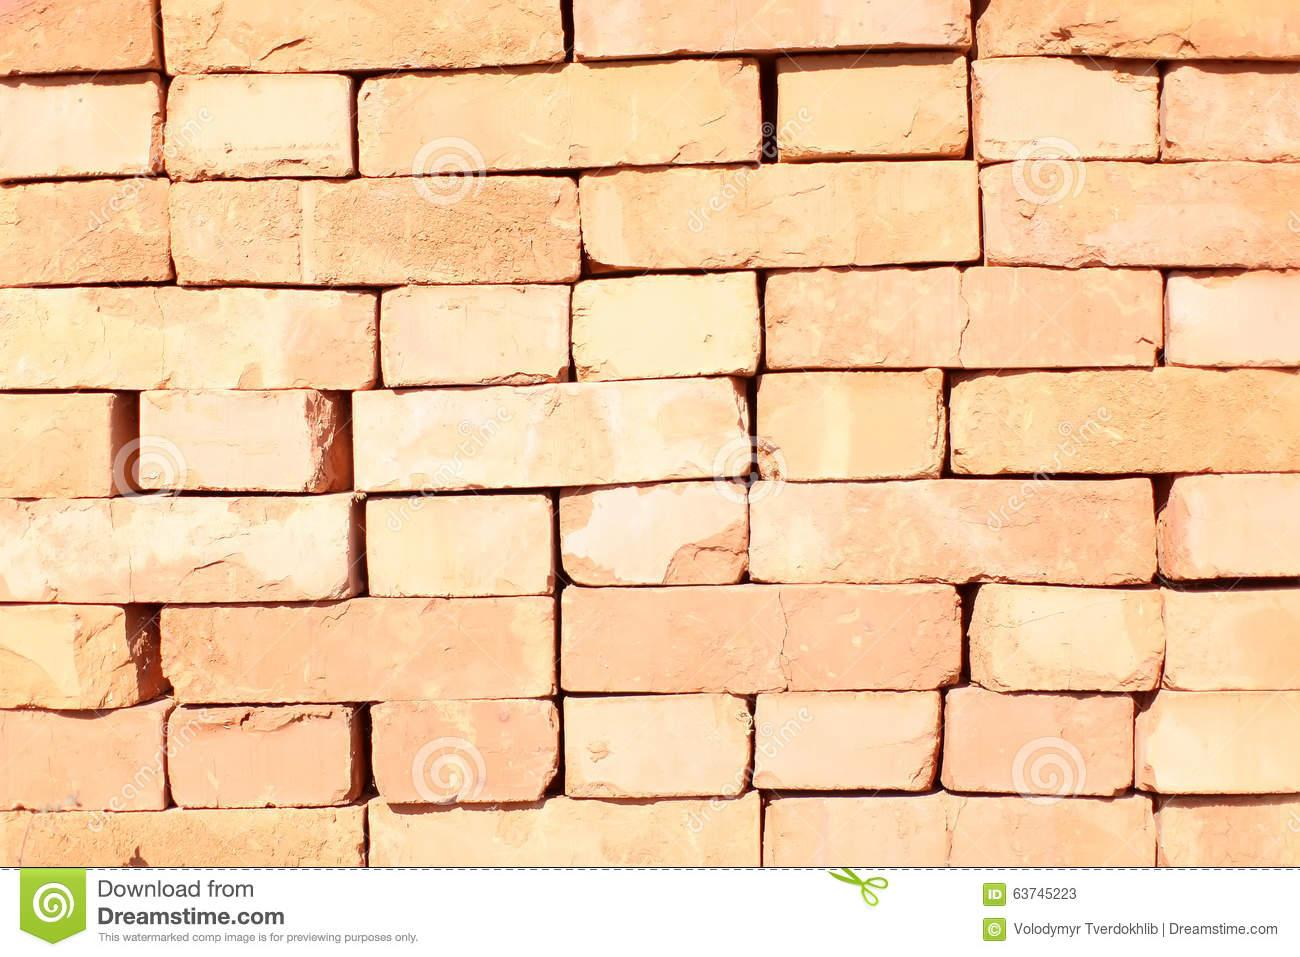brick: (357, 60, 763, 176), (353, 378, 751, 491), (170, 177, 581, 285), (562, 582, 962, 693), (579, 161, 978, 271), (751, 478, 1157, 584), (160, 596, 557, 703), (765, 269, 1163, 367), (0, 492, 351, 601), (0, 288, 375, 389), (951, 367, 1300, 474), (981, 161, 1300, 269), (160, 1, 566, 77), (764, 790, 1156, 867), (368, 795, 760, 867), (572, 0, 972, 60), (968, 583, 1166, 693), (1, 809, 365, 867), (757, 368, 945, 481), (572, 272, 760, 381), (942, 687, 1132, 794), (778, 54, 967, 162), (370, 700, 561, 804), (971, 57, 1158, 162), (564, 693, 751, 797), (560, 482, 748, 586), (168, 75, 352, 180), (366, 495, 554, 598), (168, 704, 351, 809), (380, 284, 568, 386), (975, 0, 1300, 59), (139, 390, 325, 491), (1, 177, 172, 285), (754, 694, 941, 790), (1135, 689, 1300, 794), (0, 707, 164, 812), (0, 75, 162, 178), (1159, 473, 1300, 580), (0, 605, 137, 711), (1163, 586, 1300, 690), (1159, 64, 1300, 163), (1165, 267, 1300, 365), (0, 394, 113, 499), (1, 0, 157, 75), (1158, 796, 1300, 865)
